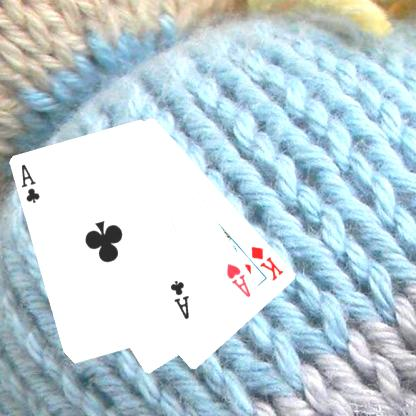AC: (168, 278, 191, 321), (19, 162, 42, 205)
AH: (224, 261, 253, 299)
KD: (248, 243, 285, 282)
